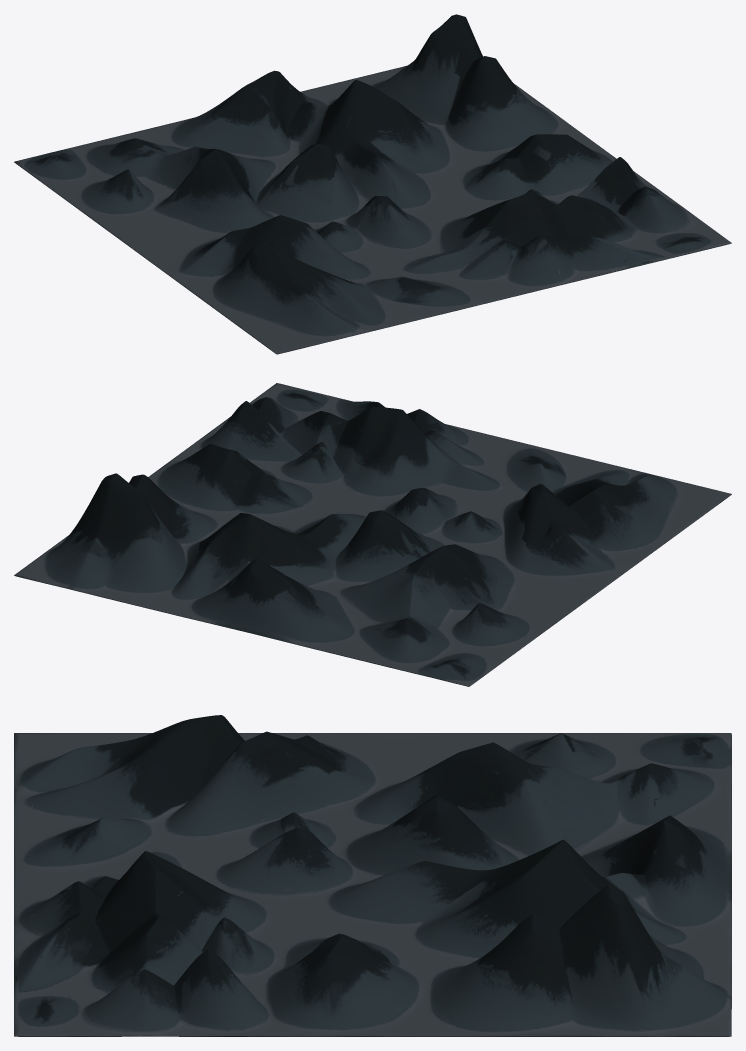
The model's file is jade_mountain.glb.
3 views of the same model, one above another, from view 1: azimuth 30°, elevation 25°; view 2: azimuth 150°, elevation 25°; view 3: azimuth 270°, elevation 25° (orthographic). The views are drawn at different scales.
Visible parts, largest first — view 1: node_0; view 2: node_0; view 3: node_0.
Part boxes in pixels (bbox=[...]): node_0: bbox=[14, 14, 731, 354]; node_0: bbox=[14, 383, 731, 686]; node_0: bbox=[14, 715, 731, 1036].
Bounding box in the file's own units: 170 × 30 × 170.
Materials: 1 (1 with a texture image).
